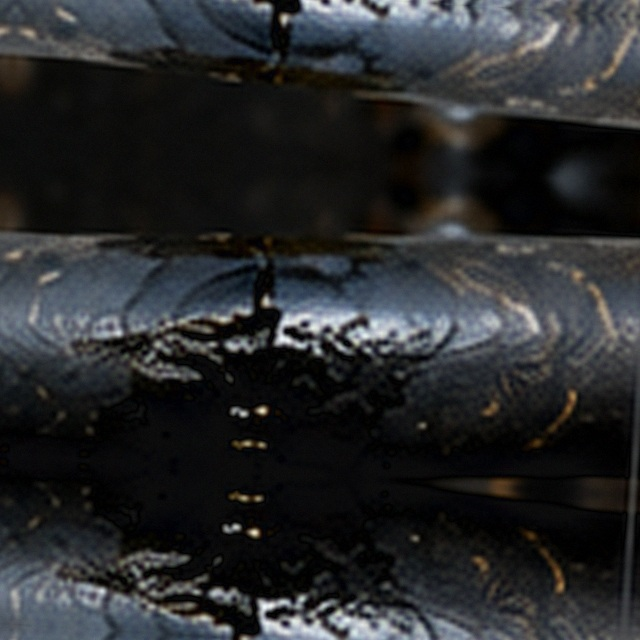hydraulic_oil_leak: (224, 228, 450, 430)
